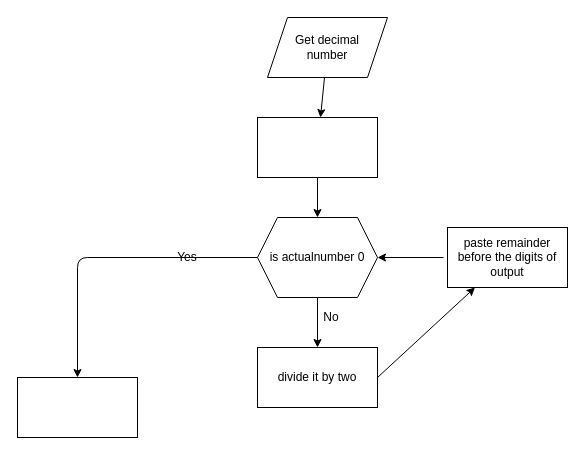
The diagram is 585 pixels wide and 455 high, and some of its shapes have lost their labels. Each missing label, with the centre of its shape:
"Output = 0 (start); actualnumber = decimal number" belongs at point 317,147.
"Print Output" belongs at point 77,407.
